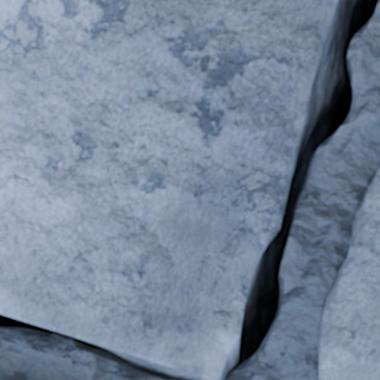brick: (0, 0, 337, 379), (319, 169, 379, 379)
crack: (225, 0, 379, 377), (0, 313, 196, 379)
